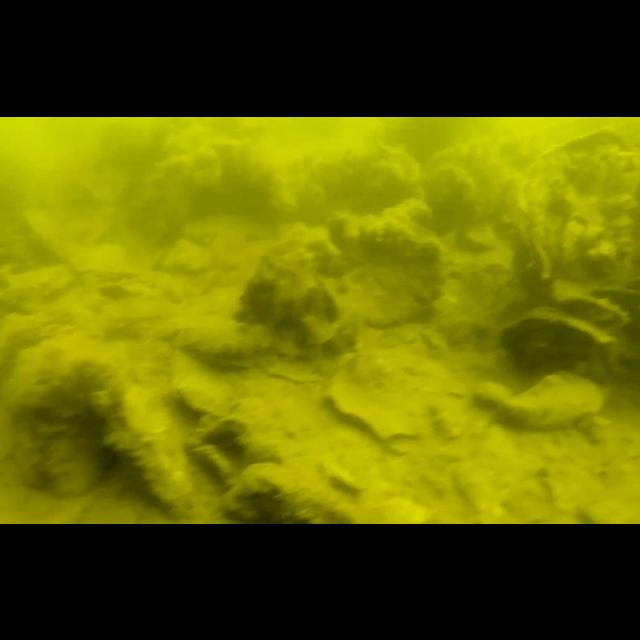Oyster-Closed: (510, 125, 640, 288), (5, 356, 120, 498), (236, 224, 354, 350), (100, 375, 202, 515), (328, 210, 444, 328), (212, 461, 354, 523), (502, 312, 614, 376), (493, 371, 607, 432), (554, 281, 628, 333), (0, 265, 76, 309)
Oyster-Open: (190, 412, 254, 480), (182, 328, 276, 374), (70, 242, 140, 288)
